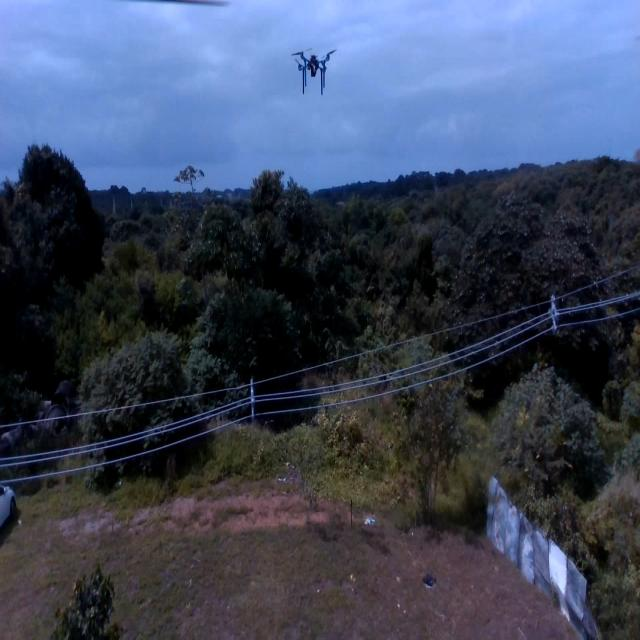-uav-: (283, 40, 344, 101)
